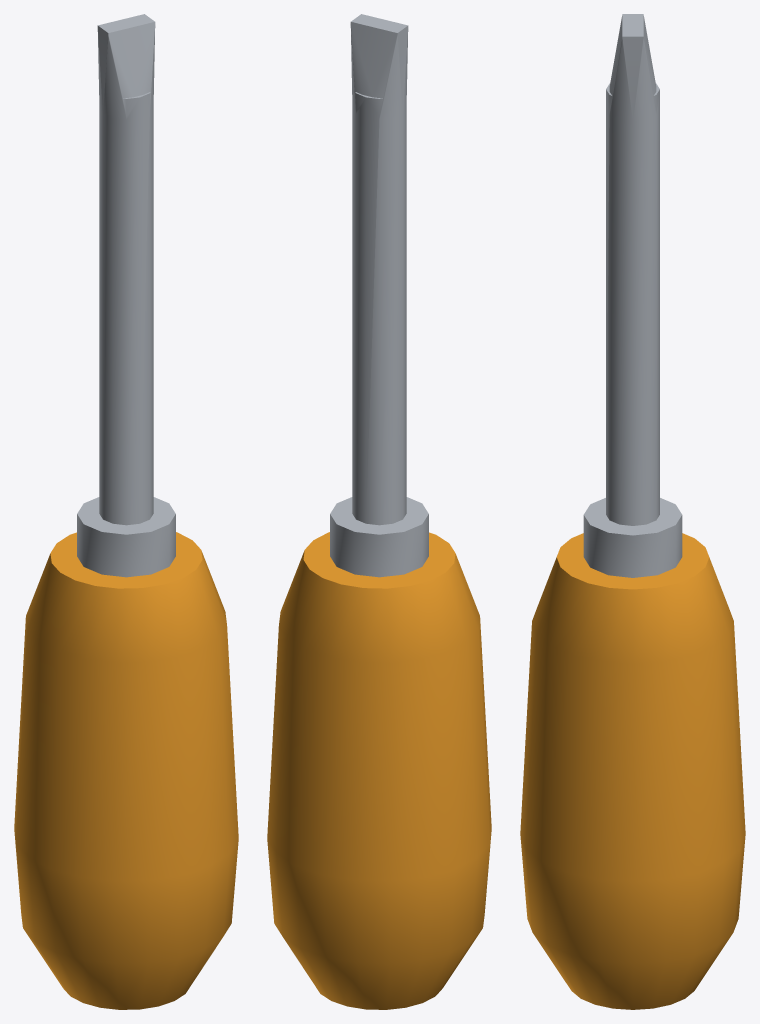
File: screwdriver.glb
The picture shows the model from 3 angles, left to right: view 1: azimuth 30°, elevation 25°; view 2: azimuth 150°, elevation 25°; view 3: azimuth 270°, elevation 25°; orthographic projection.
Visible parts, largest first — view 1: screwdriver; view 2: screwdriver; view 3: screwdriver.
Part boxes in pixels (<box>): screwdriver: <box>14,14,238,1009</box>; screwdriver: <box>267,14,491,1009</box>; screwdriver: <box>520,14,745,1009</box>.
Size of the model in its own units: 0.0192 by 0.09 by 0.0192.
